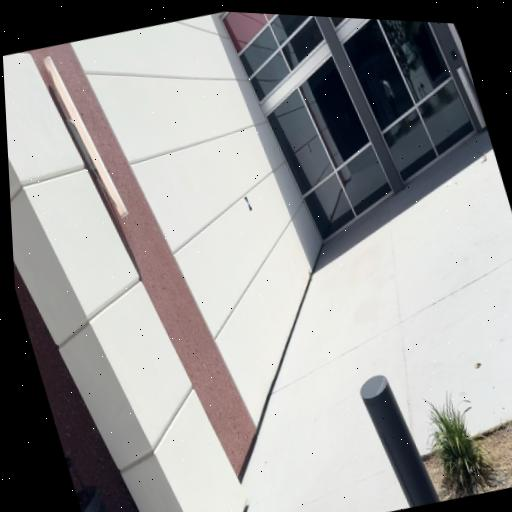target7: (244, 195, 253, 211)
